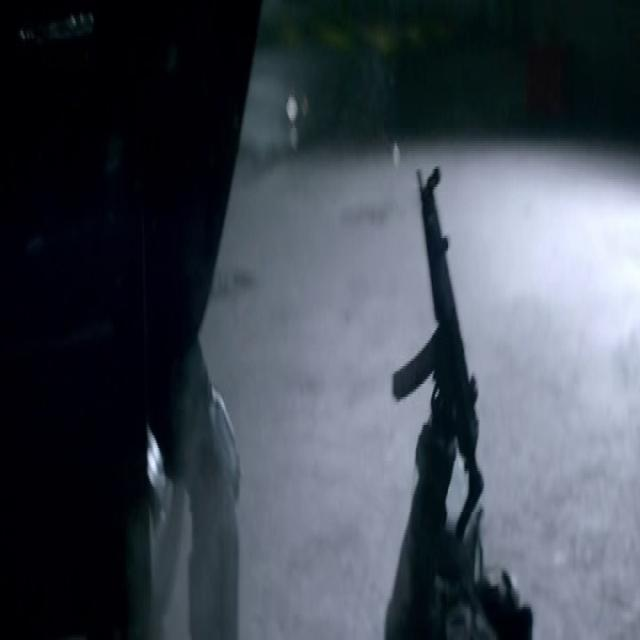rifle: (389, 152, 494, 507)
